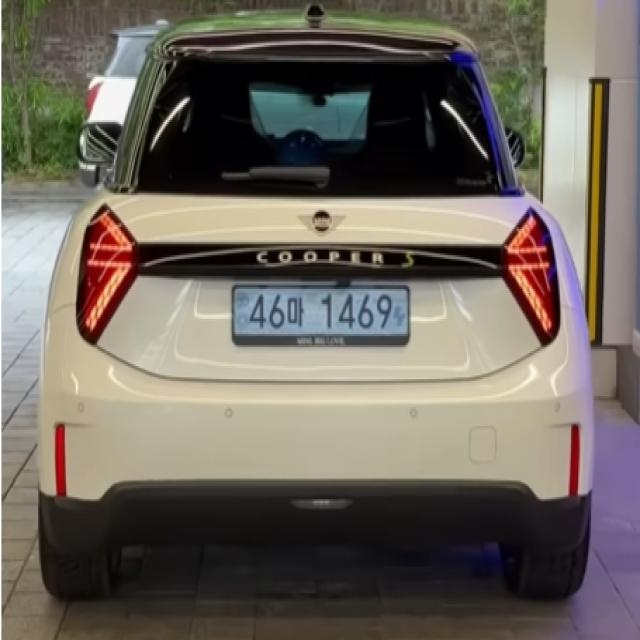car: (215, 275, 437, 361)
carev: (390, 285, 413, 344), (230, 283, 251, 341)
